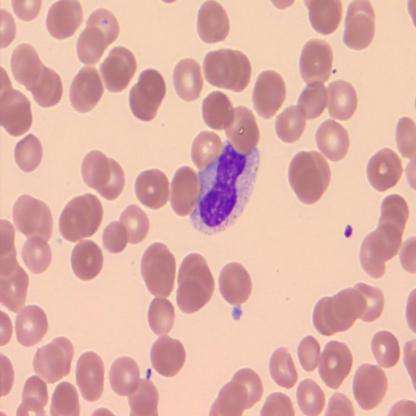Metamyelocyte: (187, 139, 262, 238)
